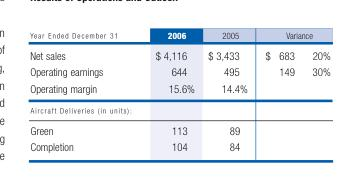table: (29, 28, 329, 152)
table column: (29, 28, 135, 152), (135, 28, 200, 152), (200, 28, 255, 152), (255, 28, 302, 152), (302, 28, 329, 152)
table column header: (29, 28, 329, 63)
table projected row header: (29, 99, 329, 118)
table row: (29, 79, 329, 99), (29, 118, 329, 138), (29, 44, 329, 63), (29, 99, 329, 118), (29, 28, 329, 44), (29, 63, 329, 79), (29, 138, 329, 152)
table spanning cell: (29, 28, 135, 63), (135, 28, 200, 63), (200, 28, 255, 63), (255, 28, 329, 44)
